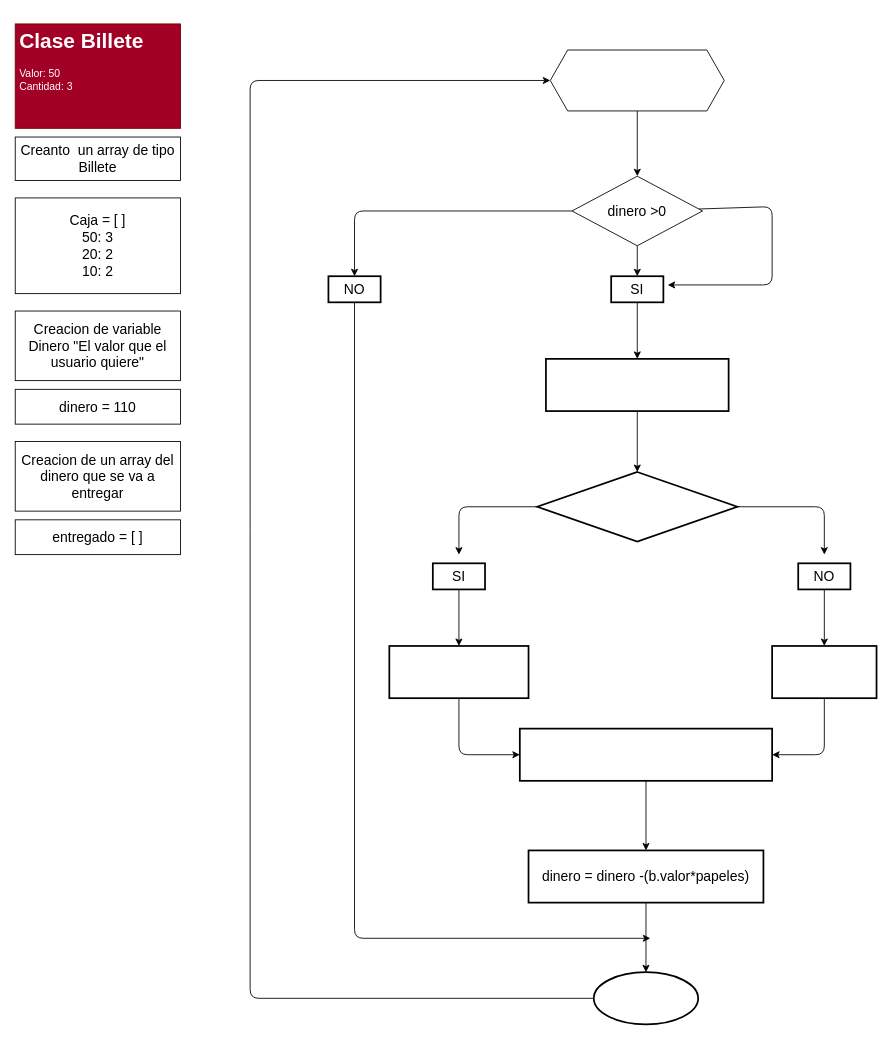
This 893x1040 diagram has some shape labels left out. Each missing label, with the box of its shape:
ciclo: (592, 971, 699, 1025)
div = floor (dinero/b.valor): (545, 358, 729, 412)
div > b.cantidad: (536, 471, 738, 542)
e.push(new billlete(b.valor,papeles)): (519, 727, 773, 781)
for b of caja: (549, 49, 724, 111)
papeles = b.cantidad: (388, 645, 529, 699)
papeles = div: (771, 645, 877, 699)
